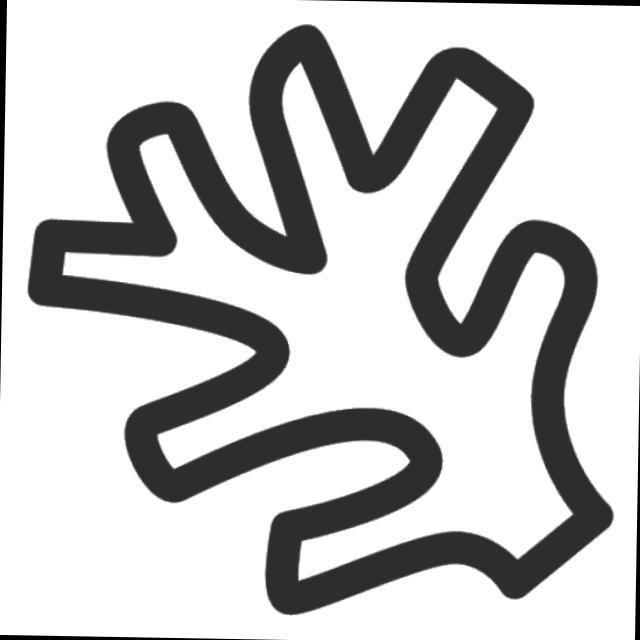coral: (13, 10, 631, 629)
